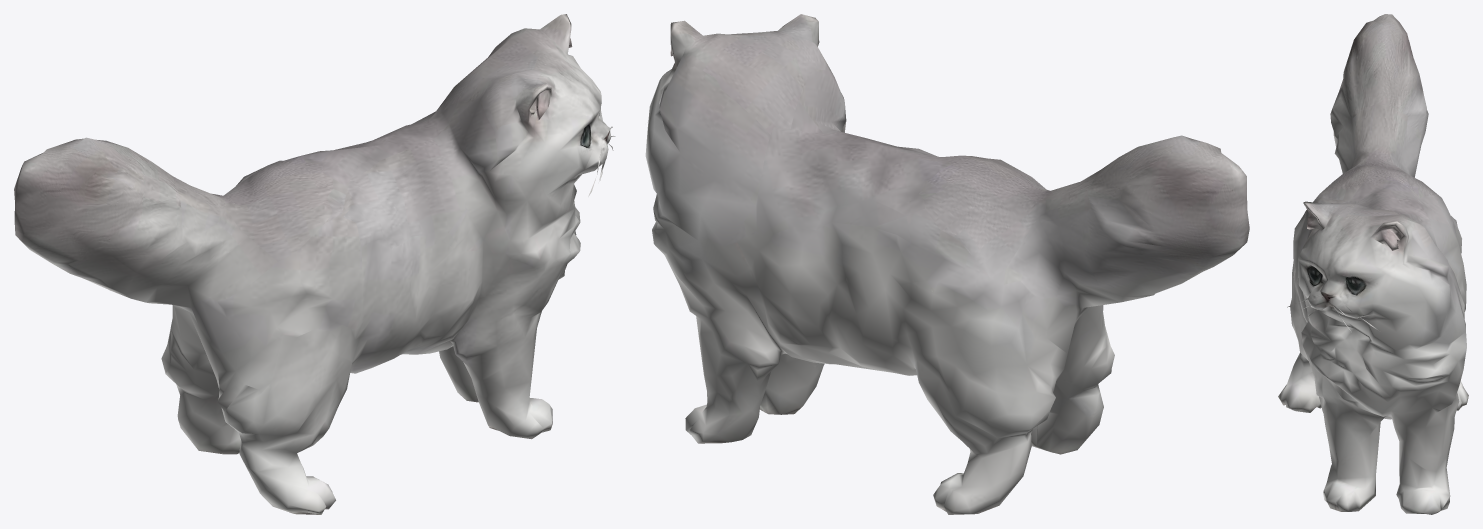
The model's file is KEEPSAKE-lo.glb.
3 views of the same model, side by side, from view 1: azimuth 30°, elevation 25°; view 2: azimuth 150°, elevation 25°; view 3: azimuth 270°, elevation 25° (orthographic). The views are drawn at different scales.
Parts seen in each view (by area): view 1: tripo_node_f10c5332-1c32-4b2f-8841-8c94186c3aed; view 2: tripo_node_f10c5332-1c32-4b2f-8841-8c94186c3aed; view 3: tripo_node_f10c5332-1c32-4b2f-8841-8c94186c3aed.
Part boxes in pixels (x1,y1,x2,y2): tripo_node_f10c5332-1c32-4b2f-8841-8c94186c3aed: (14, 14, 615, 514); tripo_node_f10c5332-1c32-4b2f-8841-8c94186c3aed: (645, 14, 1249, 514); tripo_node_f10c5332-1c32-4b2f-8841-8c94186c3aed: (1278, 14, 1468, 514).
Bounding box in the file's own units: 1.64 × 0.9994 × 0.5547.
1 material, 1 textured.
